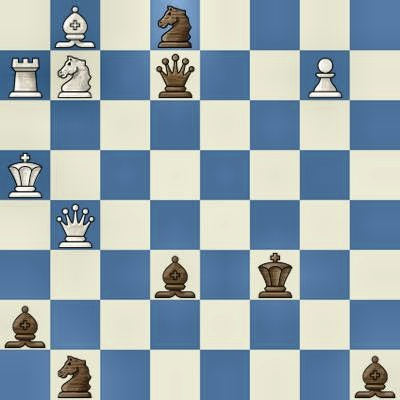black-bishop: (150, 250, 200, 300), (0, 300, 50, 350), (350, 350, 400, 400)
black-king: (250, 250, 300, 300)
black-knight: (150, 0, 200, 50), (50, 350, 100, 400)
black-queen: (150, 50, 200, 100)
white-bishop: (50, 0, 100, 50)
white-king: (0, 150, 50, 200)
white-knight: (50, 50, 100, 100)
white-pawn: (300, 50, 350, 100)
white-queen: (50, 200, 100, 250)
white-rook: (0, 50, 50, 100)
